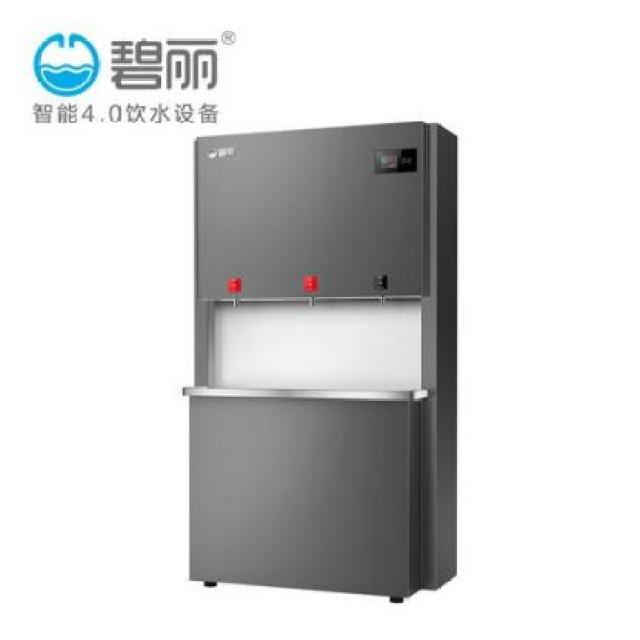cooler: (178, 115, 464, 607)
